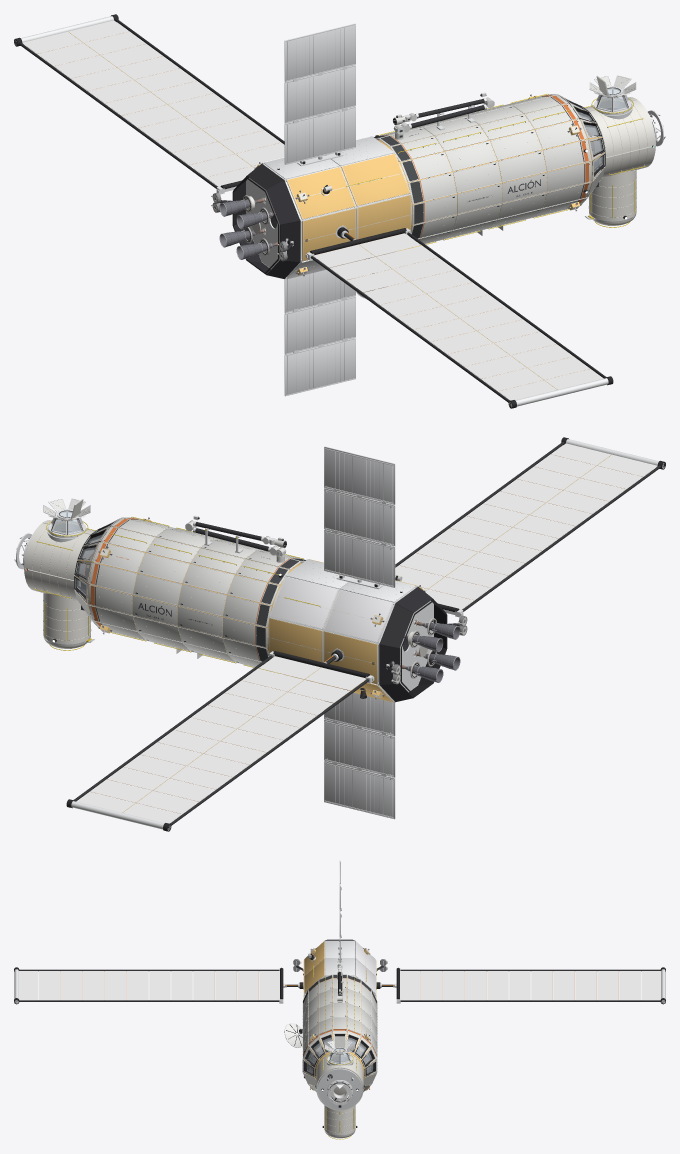
The model's file is alcion_hx4.glb.
3 renders of one model, top to bottom at view 1: azimuth 30°, elevation 25°; view 2: azimuth 150°, elevation 25°; view 3: azimuth 270°, elevation 25°, orthographic. The views are drawn at different scales.
Visible parts, largest first — view 1: THR.R1.PNL.P3, THR.R2.PNL.P3, THR.R1.PNL.P1, THR.R1.PNL.P2, THR.R2.PNL.P2, PRP.STR.SKT, SVC.SKN.R1.P4, SVC.SKN.R2.P4, FWD.ALK.MMOD, FWD.MMOD.BLK2, THR.R2.PNL.P1, SVC.SKN.R1.P5 (+57 smaller); view 2: THR.R1.PNL.P3, THR.R2.PNL.P3, THR.R2.PNL.P2, THR.R1.PNL.P1, THR.R1.PNL.P2, PRP.STR.SKT, SVC.SKN.R1.P2, SVC.SKN.R2.P2, FWD.ALK.MMOD, FWD.MMOD.BLK1, THR.R2.PNL.P1, SVC.SKN.R1.P1 (+57 smaller); view 3: FWD.STR.BHF, FWD.ALK.MMOD, PWR.W1.BLK.S02, PWR.W1.BLK.S03, PWR.W1.BLK.S04, PWR.W1.BLK.S05, PWR.W1.BLK.S06, PWR.W1.BLK.S07, PWR.W1.BLK.S08, PWR.W1.BLK.S09, PWR.W1.BLK.S10, PWR.W1.BLK.S11 (+20 smaller).
Part boxes in pixels (box(x1,y1,x2,y2)): THR.R1.PNL.P3: box(284, 23, 355, 81); THR.R2.PNL.P3: box(284, 338, 355, 396); THR.R1.PNL.P1: box(284, 106, 355, 164); THR.R1.PNL.P2: box(284, 65, 355, 123); THR.R2.PNL.P2: box(284, 296, 355, 354); PRP.STR.SKT: box(233, 163, 300, 278); SVC.SKN.R1.P4: box(341, 153, 410, 206); SVC.SKN.R2.P4: box(286, 167, 355, 219); FWD.ALK.MMOD: box(588, 170, 636, 225); FWD.MMOD.BLK2: box(589, 100, 655, 157); THR.R2.PNL.P1: box(284, 269, 355, 313); SVC.SKN.R1.P5: box(356, 194, 410, 239); THR.R1.PNL.P3: box(324, 446, 395, 504); THR.R2.PNL.P3: box(324, 761, 395, 819); THR.R2.PNL.P2: box(324, 719, 395, 777); THR.R1.PNL.P1: box(324, 529, 395, 587); THR.R1.PNL.P2: box(324, 488, 395, 546); PRP.STR.SKT: box(379, 586, 446, 702); SVC.SKN.R1.P2: box(269, 576, 338, 629); SVC.SKN.R2.P2: box(324, 590, 393, 642); FWD.ALK.MMOD: box(43, 593, 91, 648); FWD.MMOD.BLK1: box(24, 523, 90, 580); THR.R2.PNL.P1: box(324, 692, 395, 736); SVC.SKN.R1.P1: box(269, 617, 323, 662); FWD.STR.BHF: box(317, 1069, 362, 1109); FWD.ALK.MMOD: box(324, 1105, 355, 1138); PWR.W1.BLK.S02: box(421, 971, 442, 1000); PWR.W1.BLK.S03: box(443, 971, 464, 1000); PWR.W1.BLK.S04: box(465, 971, 486, 1000); PWR.W1.BLK.S05: box(487, 971, 508, 1000); PWR.W1.BLK.S06: box(509, 971, 530, 1000); PWR.W1.BLK.S07: box(531, 971, 552, 1000); PWR.W1.BLK.S08: box(553, 971, 574, 1000); PWR.W1.BLK.S09: box(575, 971, 596, 1000); PWR.W1.BLK.S10: box(597, 971, 618, 1000); PWR.W1.BLK.S11: box(619, 971, 640, 1000).
Bounding box in the file's own units: 19.58 × 15.5 × 39.42.
